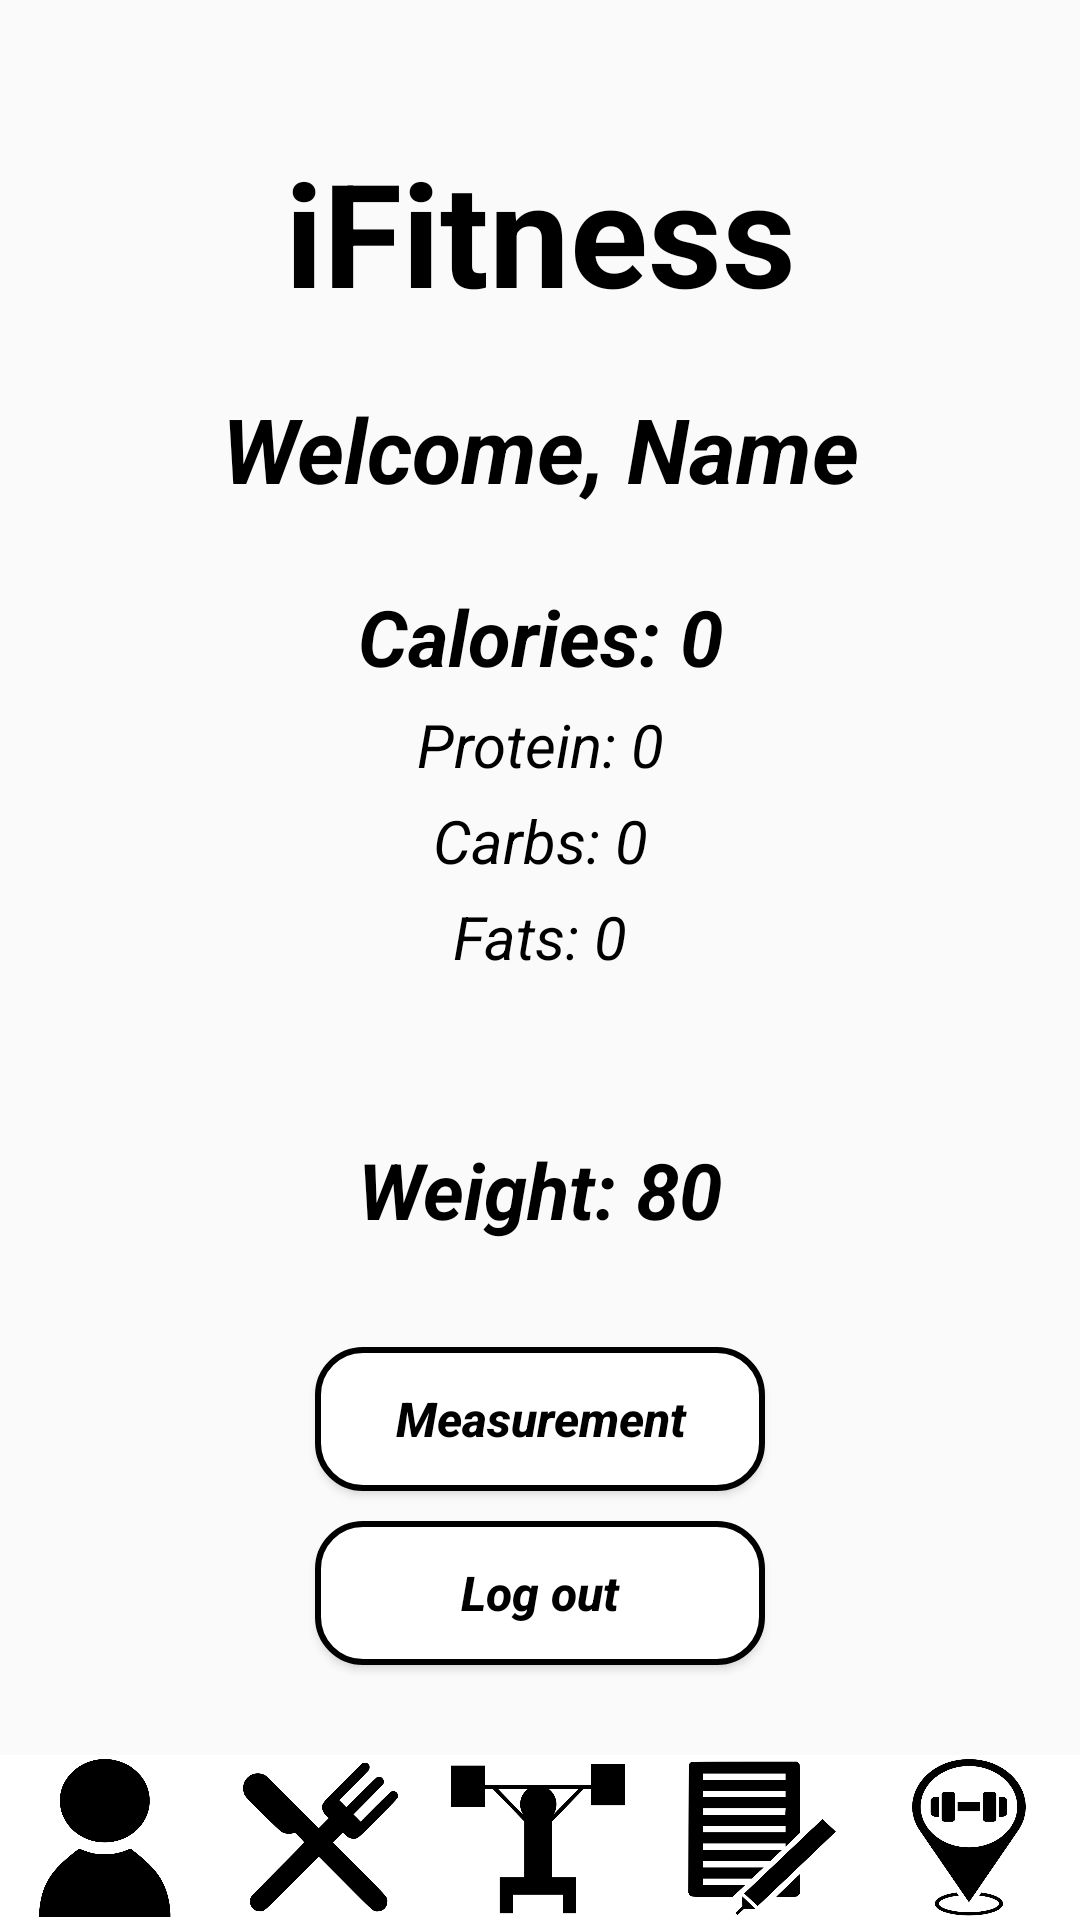

Named icons in this screenshot (1080×1920) and their centers, point (x, y):
exercise: point (538, 1839)
food: point (320, 1837)
map: point (969, 1837)
notes: point (762, 1838)
profile: point (105, 1838)
